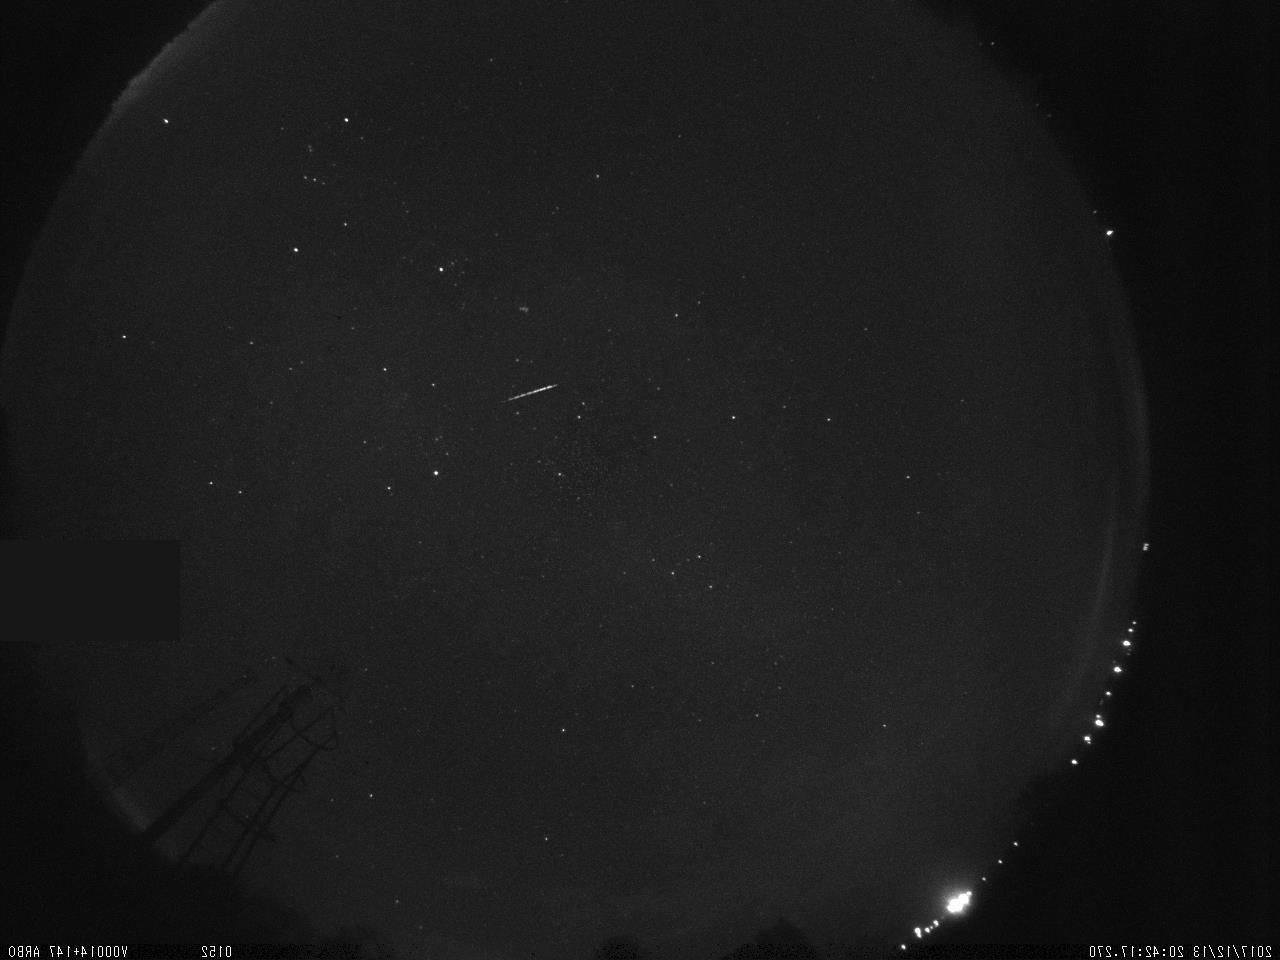meteor: (486, 376, 563, 412)
